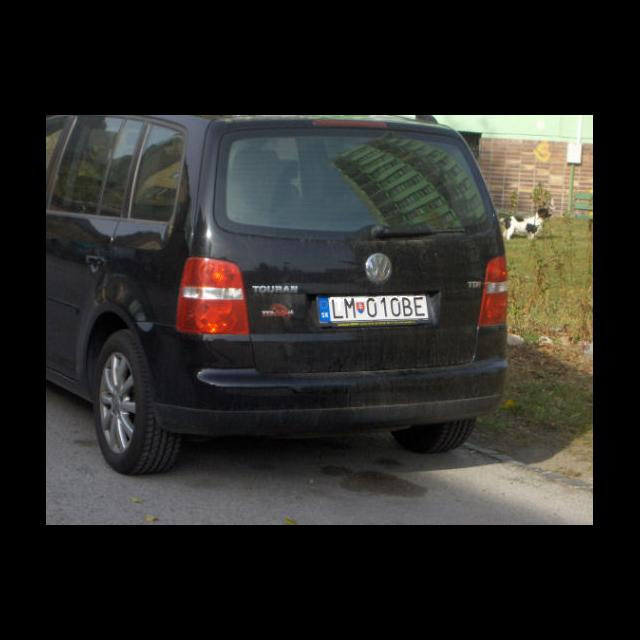Plate: (318, 291, 432, 323)
